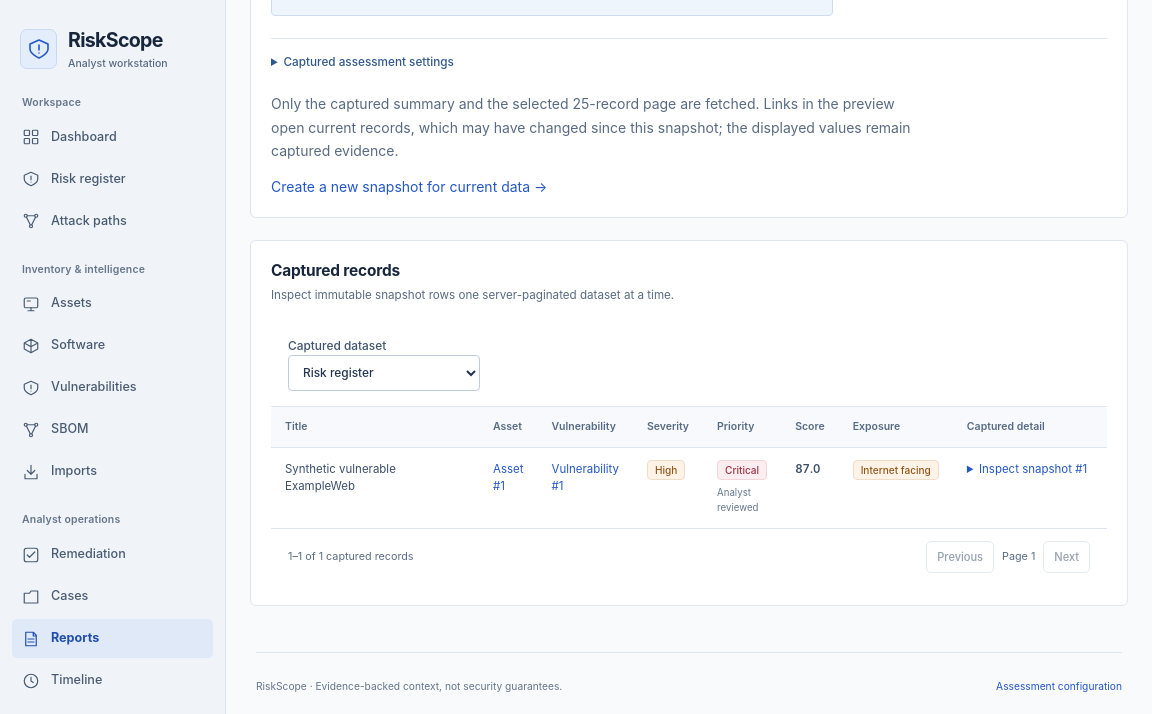
Test: bounded immutable report previews › offers supporting captured datasets and handles page failures without losing exports
This screenshot has width=1152, height=714.
(page scrolled)
Select "Evidence" in the dropdown labelled "Captured dataset" at (384, 373), box [288,355,480,391]
(page scrolled)
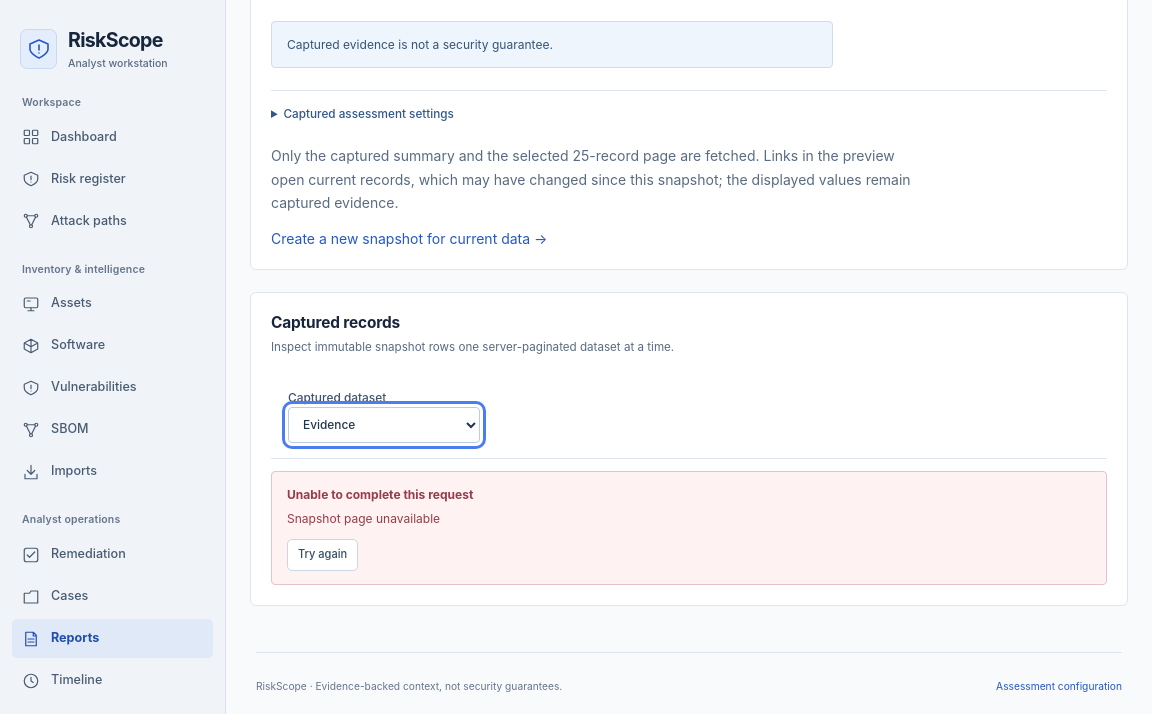
Expected: the message shows "Snapshot page unavailable", [287,511,440,526]
Click the button "Try again" at (323, 555), box [287,539,358,571]
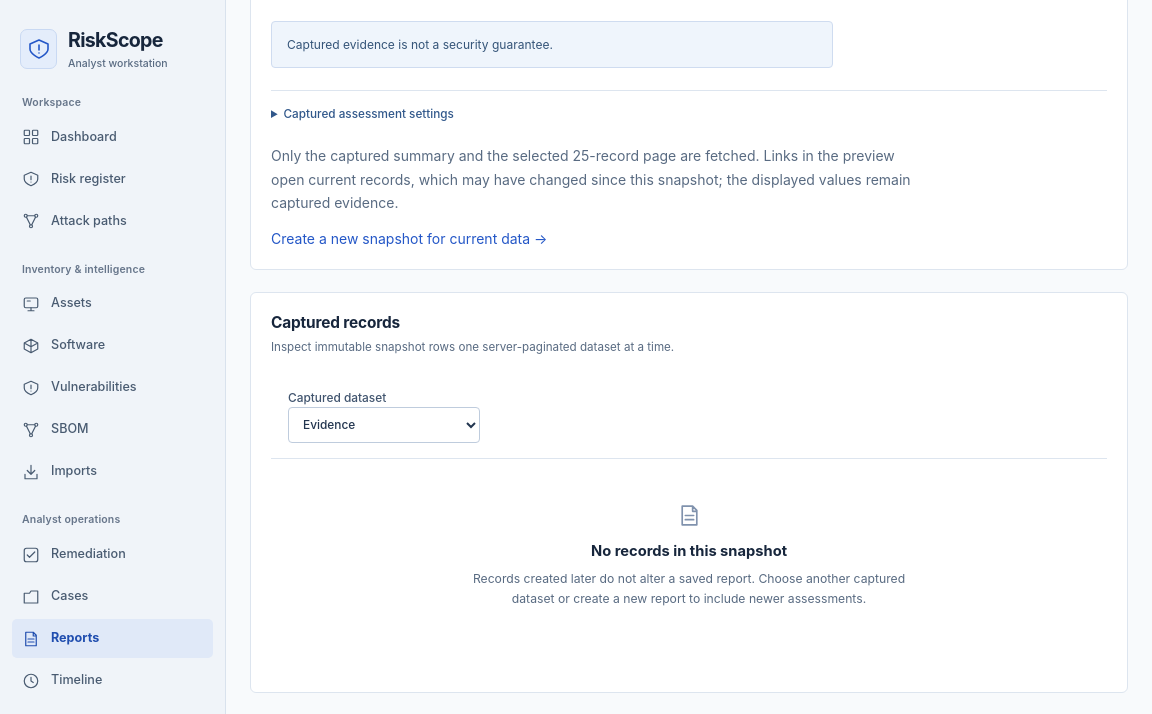
Expected: the heading "No records in this snapshot" is shown, [591,542,787,560]
